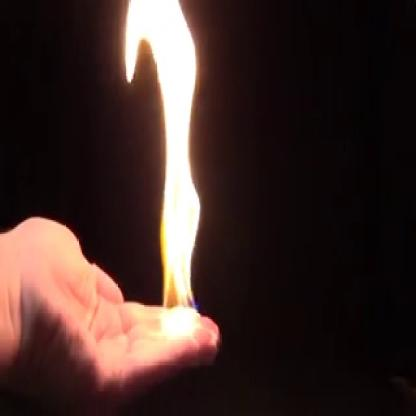fire: (120, 0, 214, 336)
